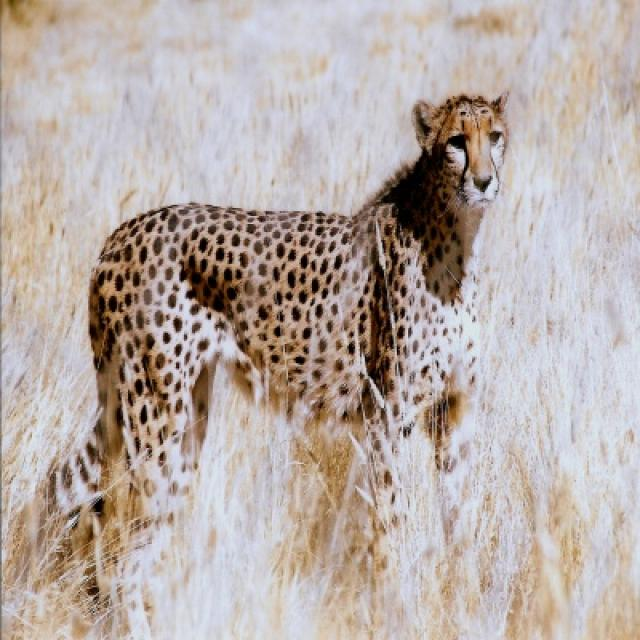Cheetah: (20, 88, 512, 629)
